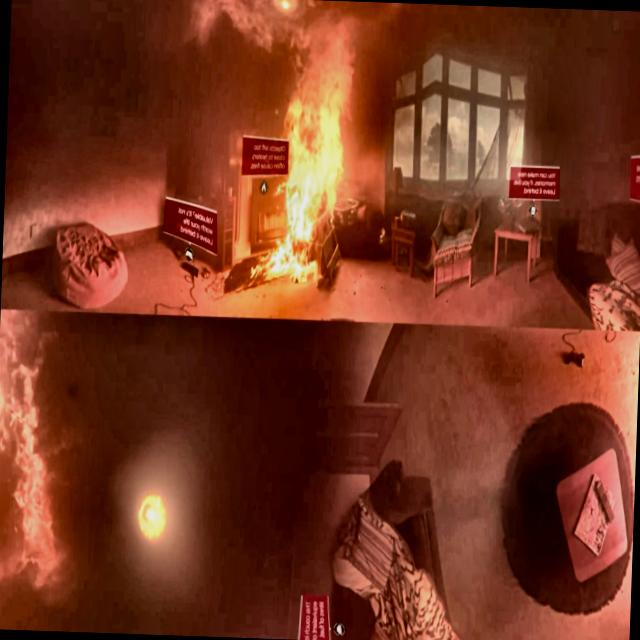fire: (266, 32, 357, 278)
